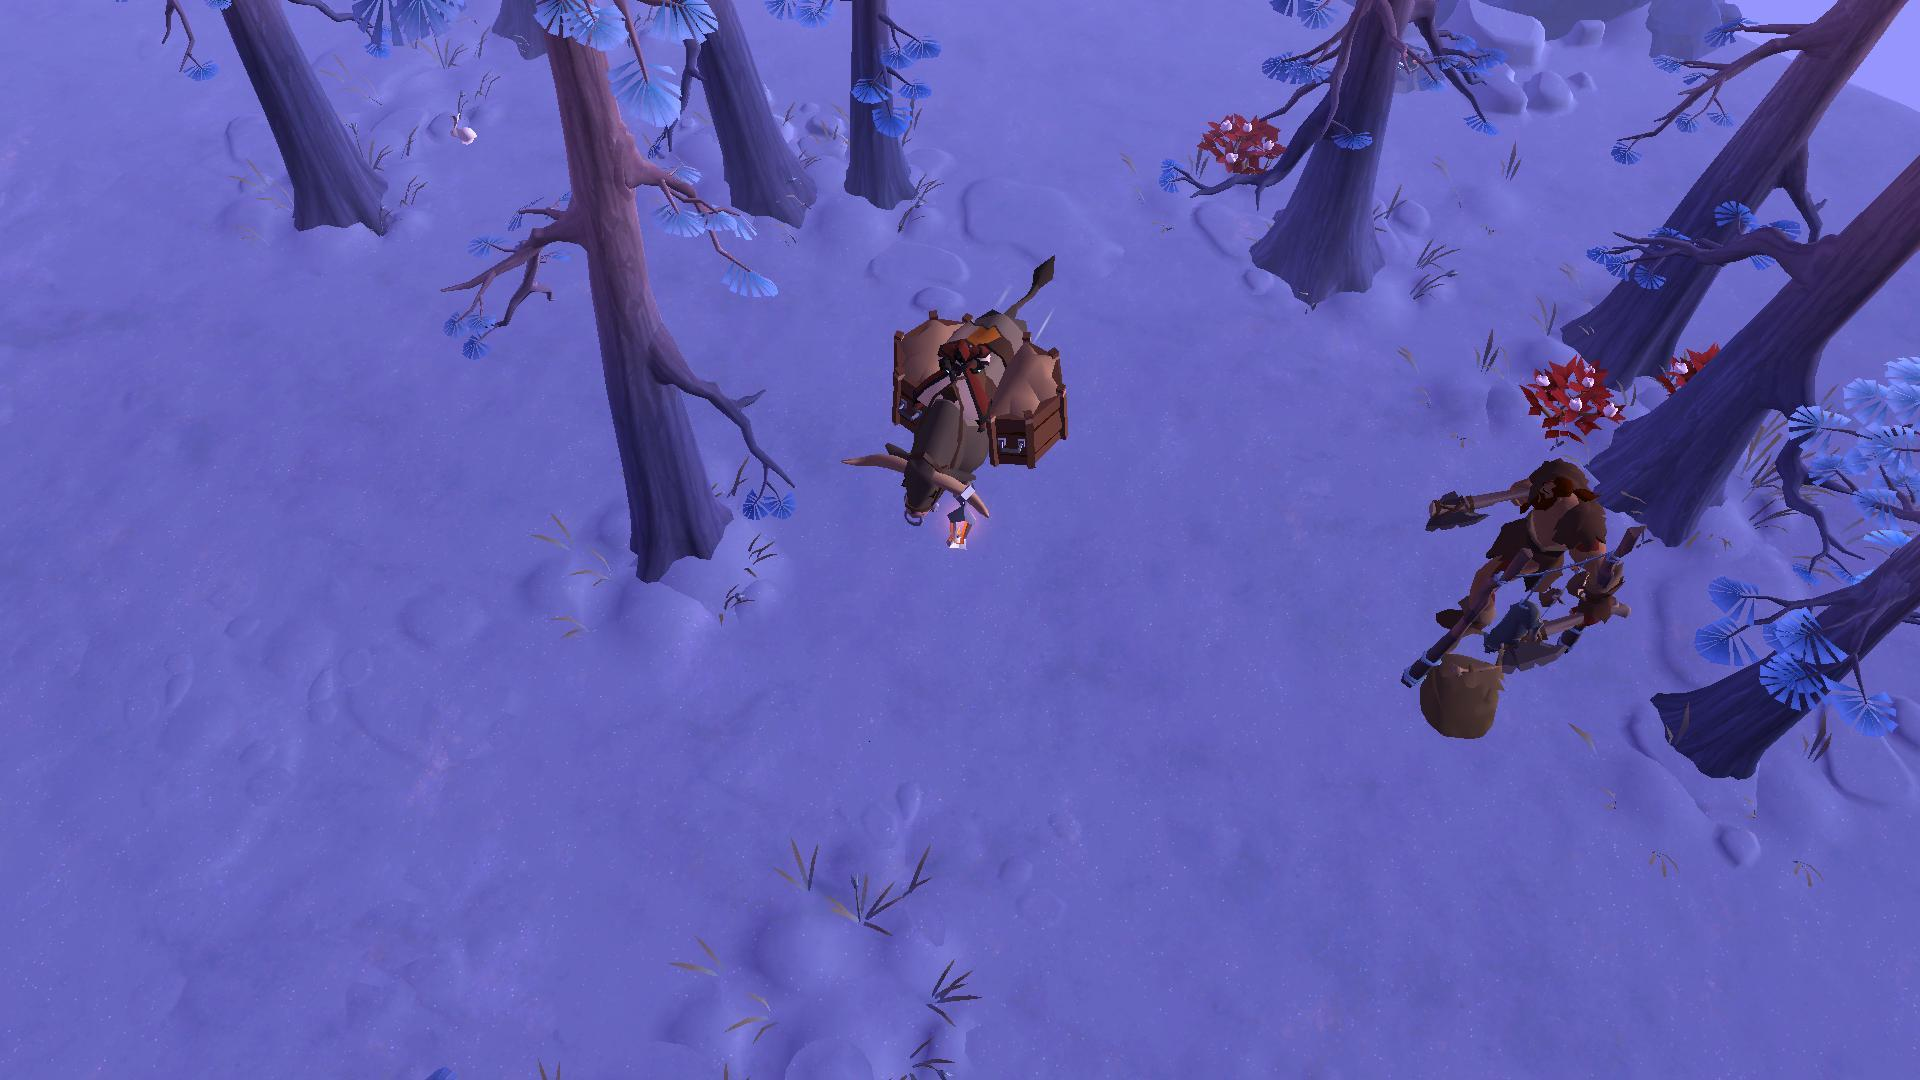enemy_factionKeeper: (1419, 442, 1617, 661)
fiber_t5: (1516, 355, 1623, 448), (1203, 100, 1295, 187), (1655, 339, 1731, 400)
